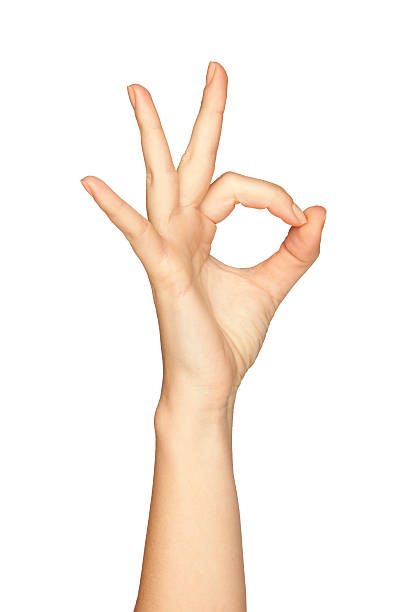oksign: (85, 72, 329, 392)
